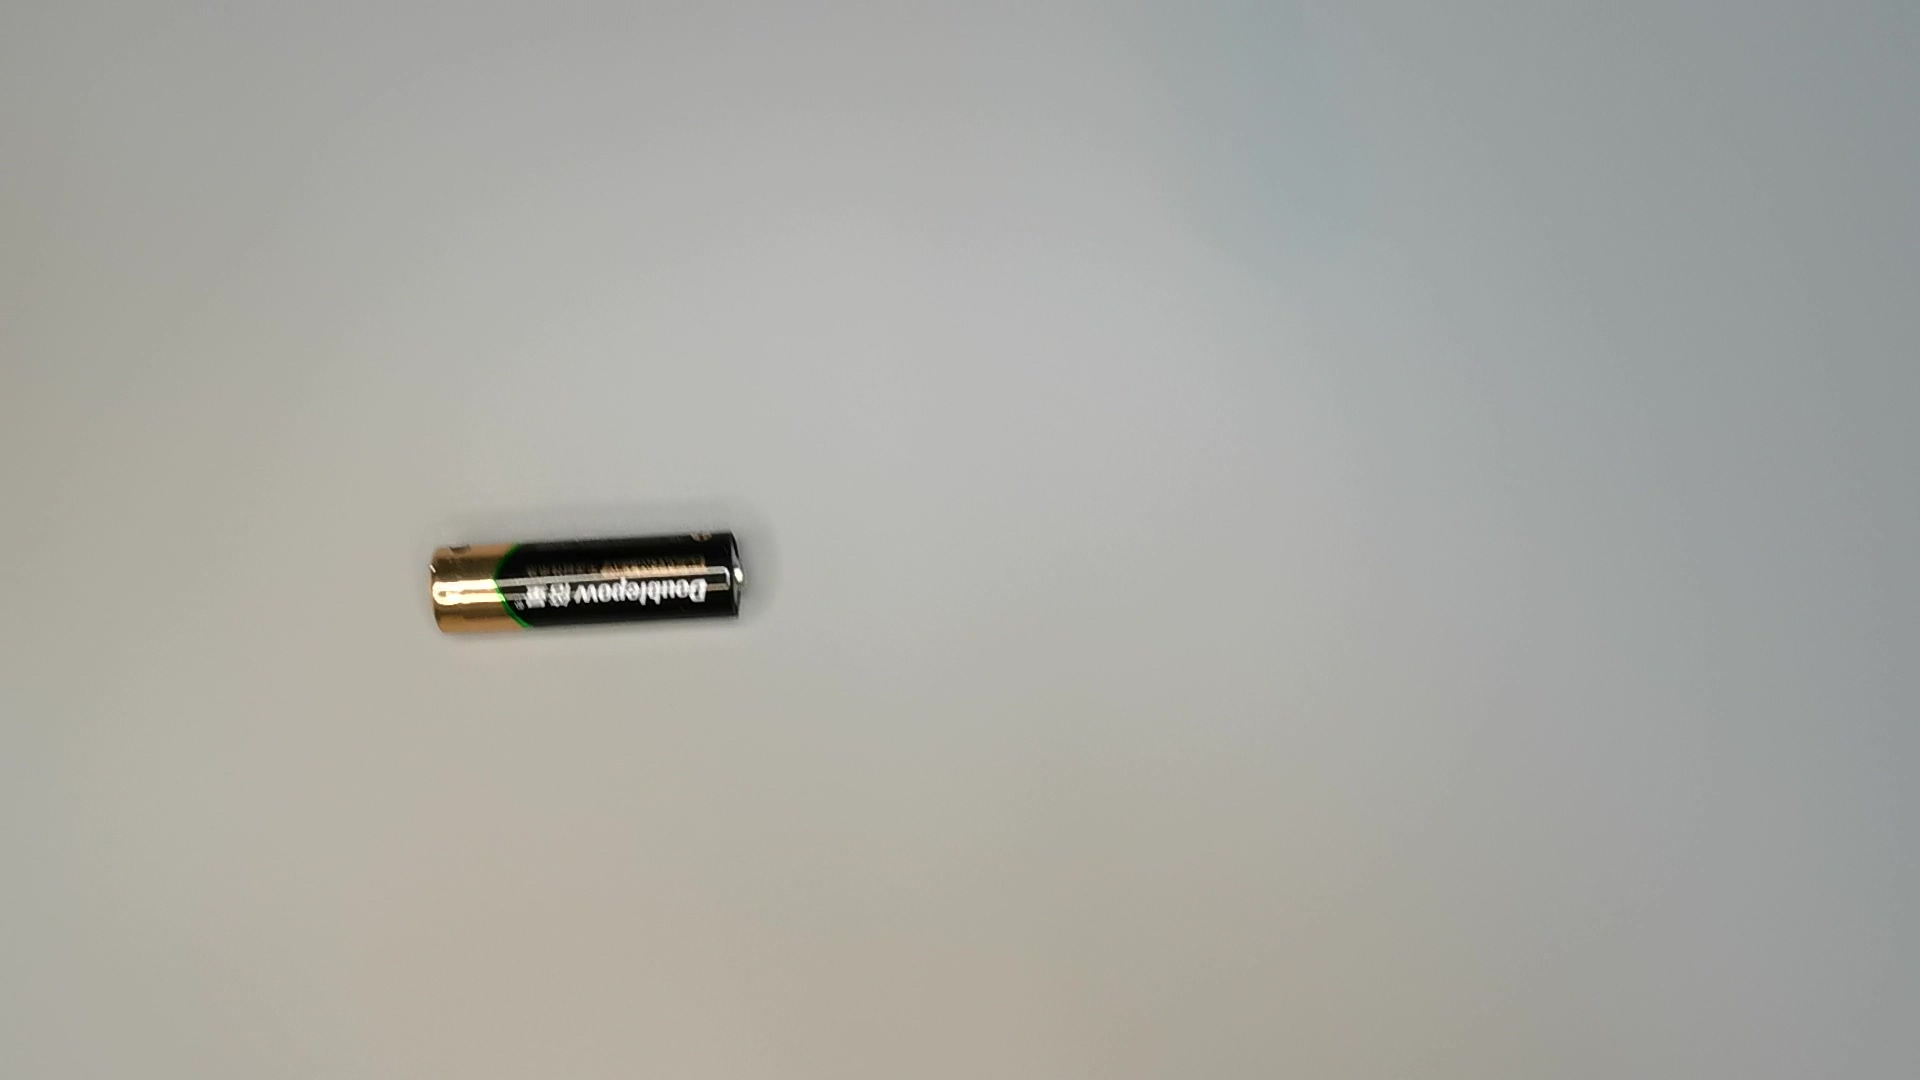battery: (422, 531, 754, 641)
